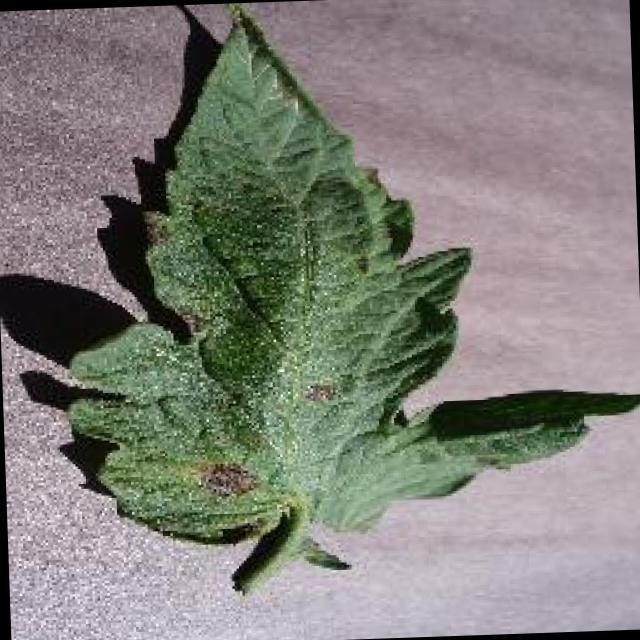Tomato_Early_Blight: (51, 11, 476, 571)
